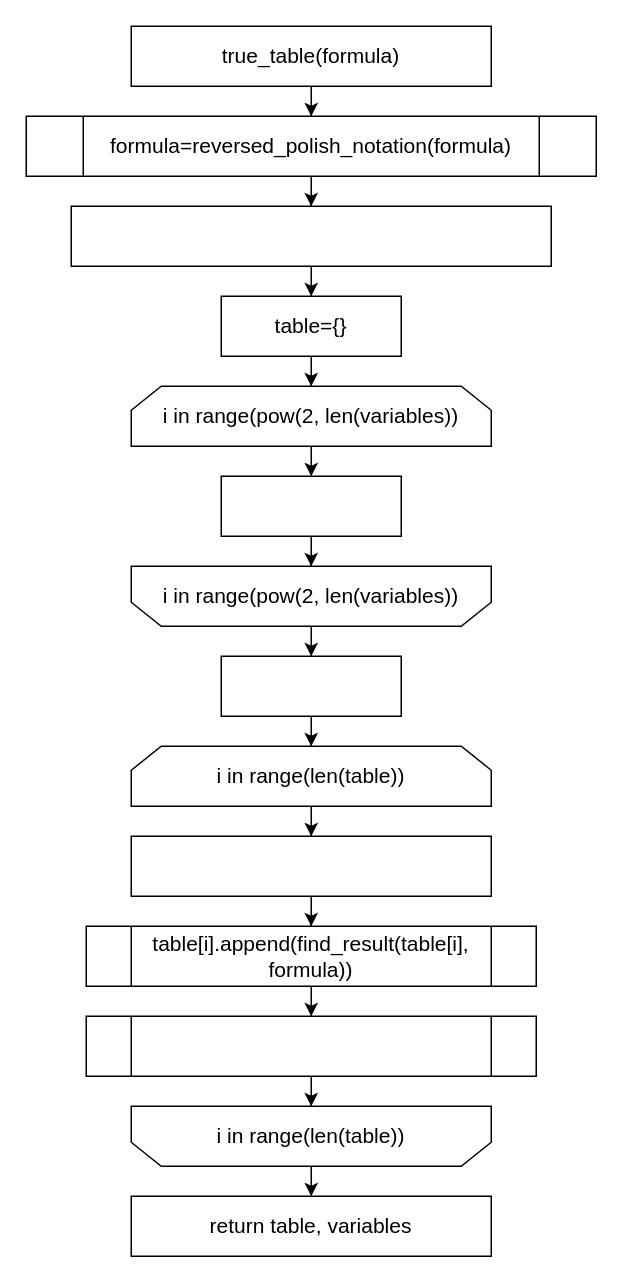
This 623x1283 diagram has some shape labels left out. Here are the shapes that lost their labels. From the top down, the centre of each, then its label:
(x=310, y=235): variables=sorted(set(re.findall(r"[A-Za-z]", formula)))
(x=310, y=505): table[i]=list()
(x=310, y=685): result = ZERO
(x=310, y=865): table[i].extend(result[-len(variables):])
(x=310, y=1045): result = interval(result, ONE)
